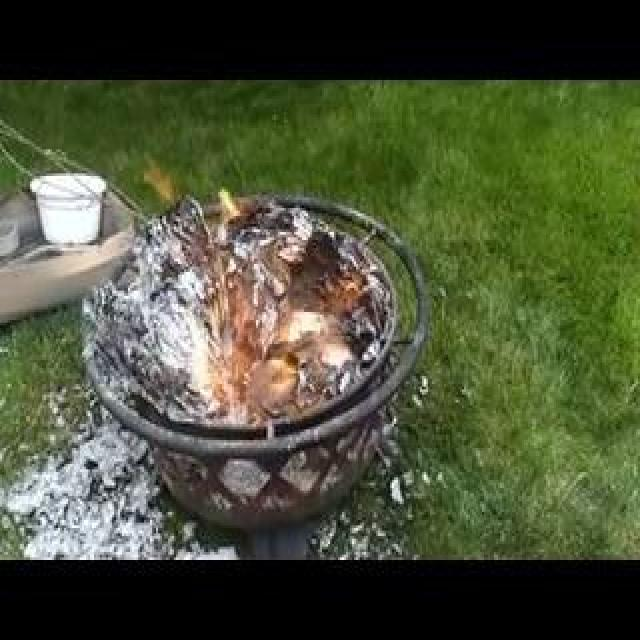Fire: (138, 154, 257, 362)
